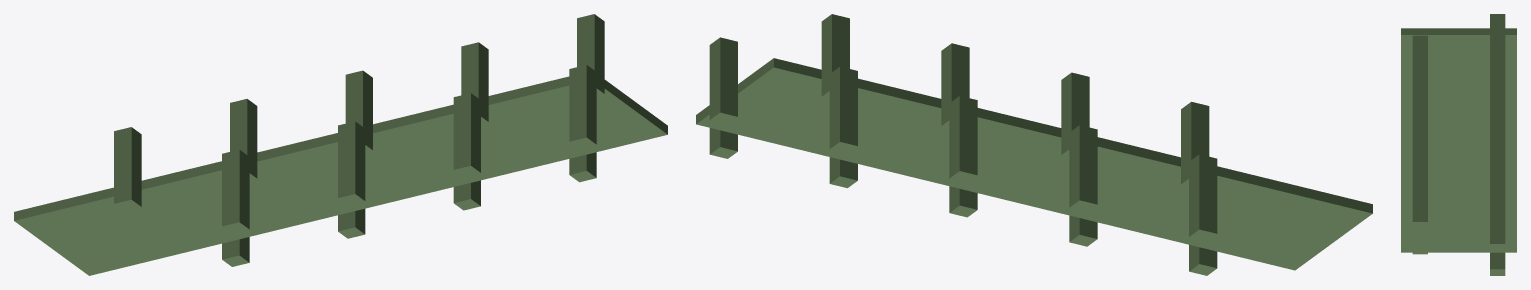
Rendered from SM_MangrovesRoute_Alpha.gltf.
3 views of the same model, side by side, from view 1: azimuth 30°, elevation 25°; view 2: azimuth 150°, elevation 25°; view 3: azimuth 270°, elevation 25° (orthographic). The views are drawn at different scales.
Parts seen in each view (by area): view 1: SM_MangrovesRoute_Alpha; view 2: SM_MangrovesRoute_Alpha; view 3: SM_MangrovesRoute_Alpha.
Boxes of the visible parts, x1,y1,x2,y2 form: SM_MangrovesRoute_Alpha: (14,14,667,275); SM_MangrovesRoute_Alpha: (696,14,1372,275); SM_MangrovesRoute_Alpha: (1401,14,1516,275).
Bounding box in the file's own units: 8 × 1.4 × 1.8.
